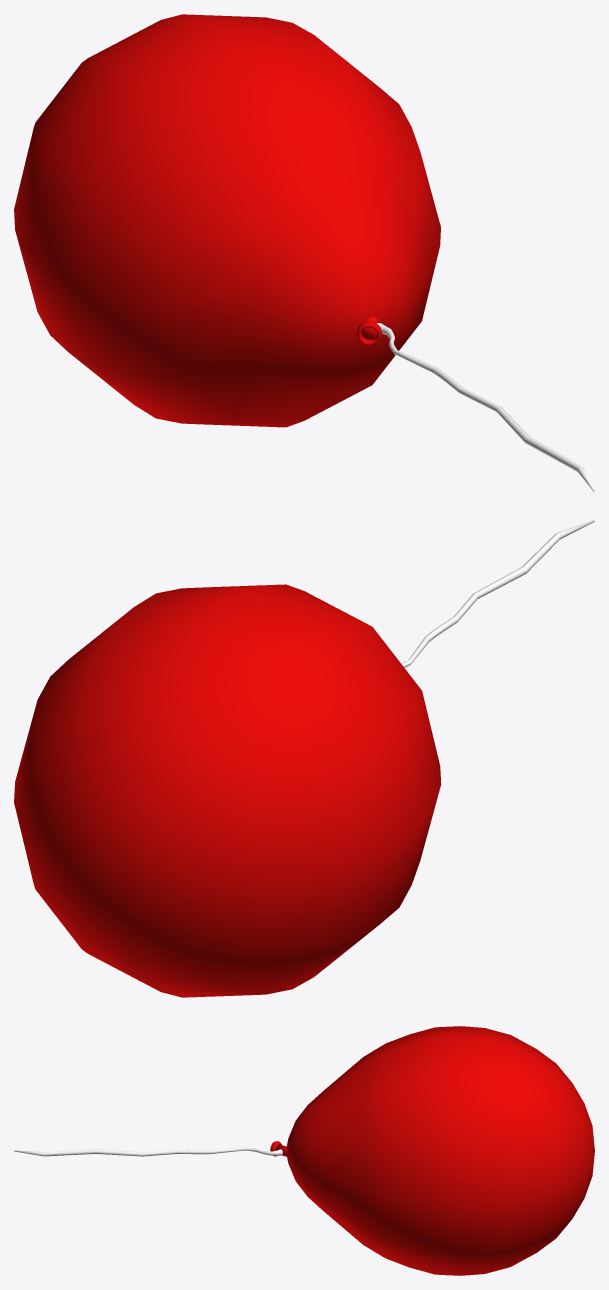
Rendered from Balloon_red.fbx.
The picture shows the model from 3 angles, top to bottom: view 1: azimuth 30°, elevation 25°; view 2: azimuth 150°, elevation 25°; view 3: azimuth 270°, elevation 25°; orthographic projection. The views are drawn at different scales.
Parts seen in each view (by area): view 1: Ballon; view 2: Ballon; view 3: Ballon.
Part boxes in pixels (x1,y1,x2,y2): Ballon: (14, 14, 594, 491); Ballon: (14, 520, 594, 997); Ballon: (14, 1026, 594, 1275).
Size of the model in its own units: 193 by 193 by 448.
